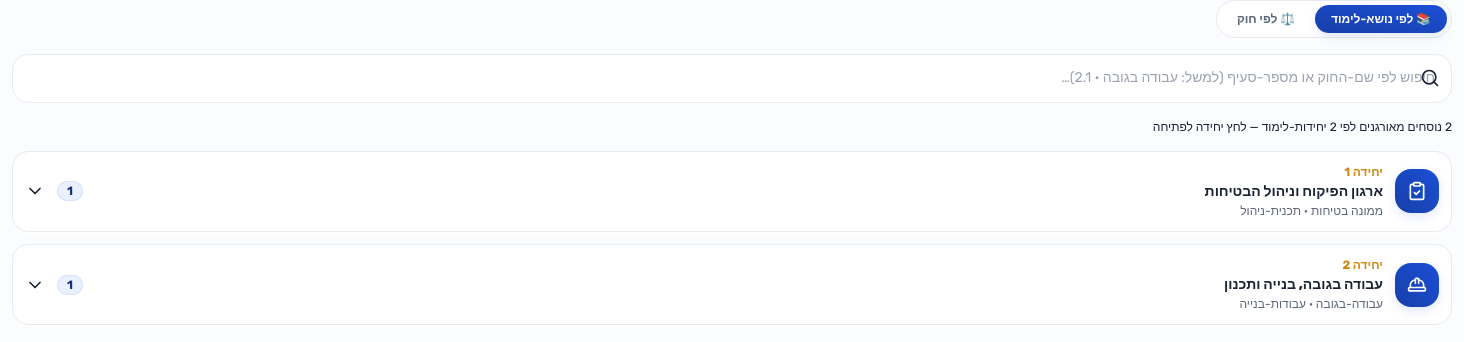
Scenario: LegislationLibrary — מפת-נושאים (ברירת-מחדל) › מעבר לתצוגת "לפי חוק" מציג את משפחות-החוק (התצוגה-הישנה נשמרת)
Step 1. Click the button with test id "view-legal" → (1266, 19), box [1221,5,1311,33]
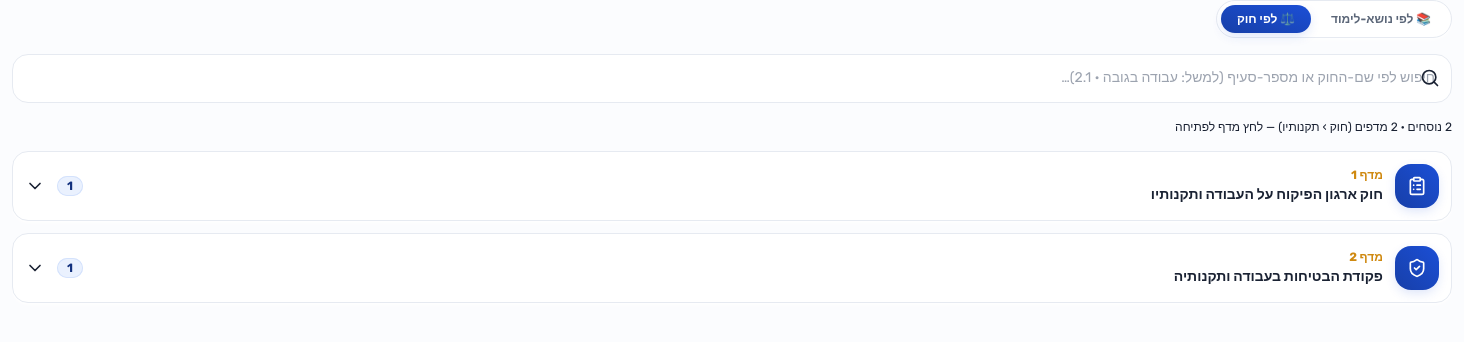
Check: the text "פקודת הבטיחות בעבודה ותקנותיה" is shown, box [1174,268,1383,285]
Check: the text "2 נוסחים · 2 מדפים (חוק › תקנותיו) — לחץ מדף לפתיחה" is shown, box [1175,120,1452,134]
//  ולחזרה:
Step 2. Click the button with test id "view-topic" → (1381, 19), box [1315,5,1447,33]
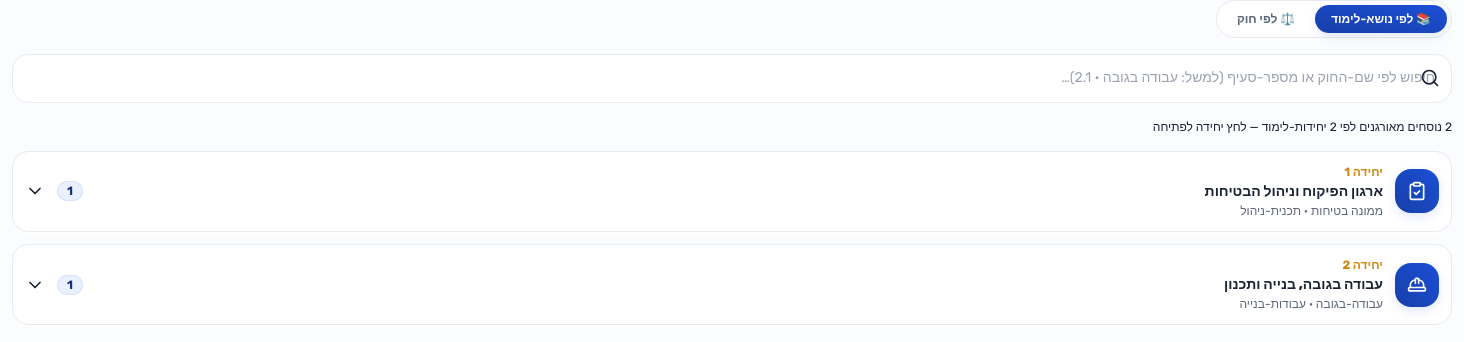
Check: the text "2 נוסחים מאורגנים לפי 2 יחידות-לימוד — לחץ יחידה לפתיחה" is shown, box [1153,120,1452,134]
